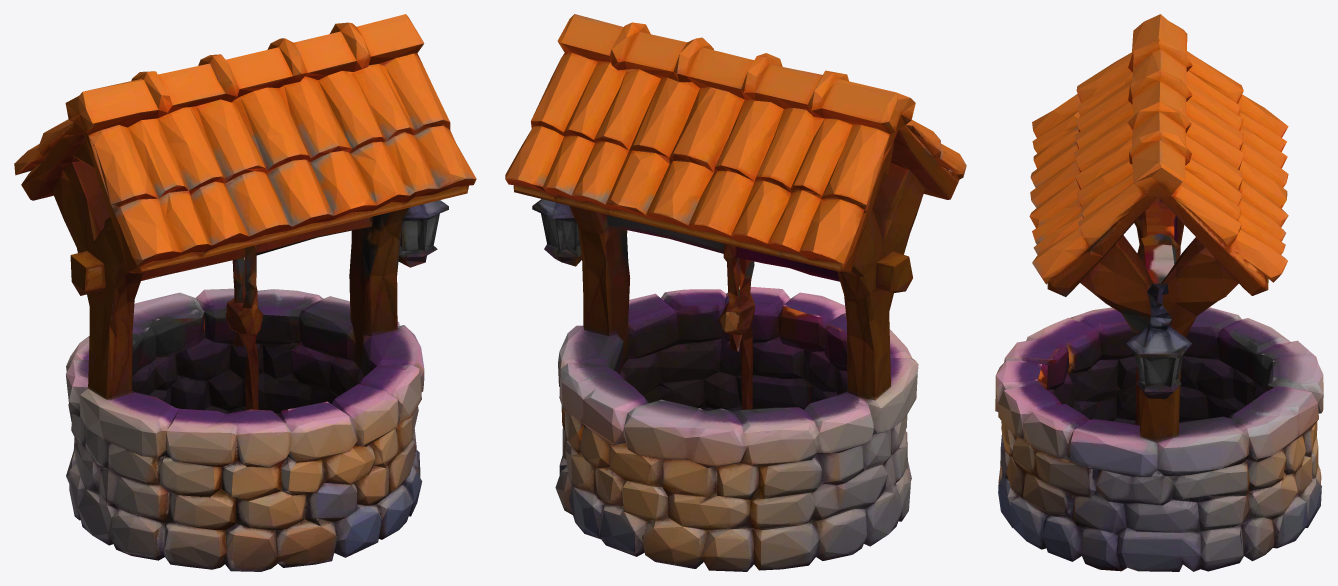
The model's file is stone_well.glb.
The picture shows the model from 3 angles, left to right: view 1: azimuth 30°, elevation 25°; view 2: azimuth 150°, elevation 25°; view 3: azimuth 270°, elevation 25°; orthographic projection. The views are drawn at different scales.
Size of the model in its own units: 1.65 by 1.98 by 1.39.
Materials: 1 (1 with a texture image).
